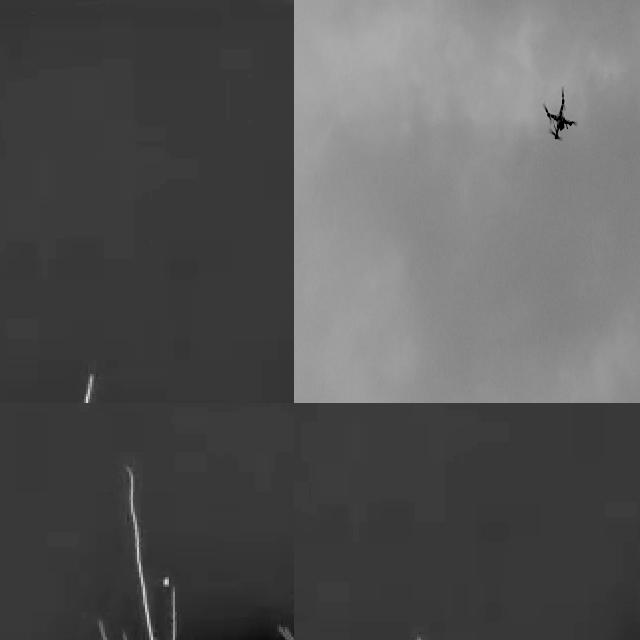0: (154, 571, 176, 593)
drone: (542, 89, 578, 144)
